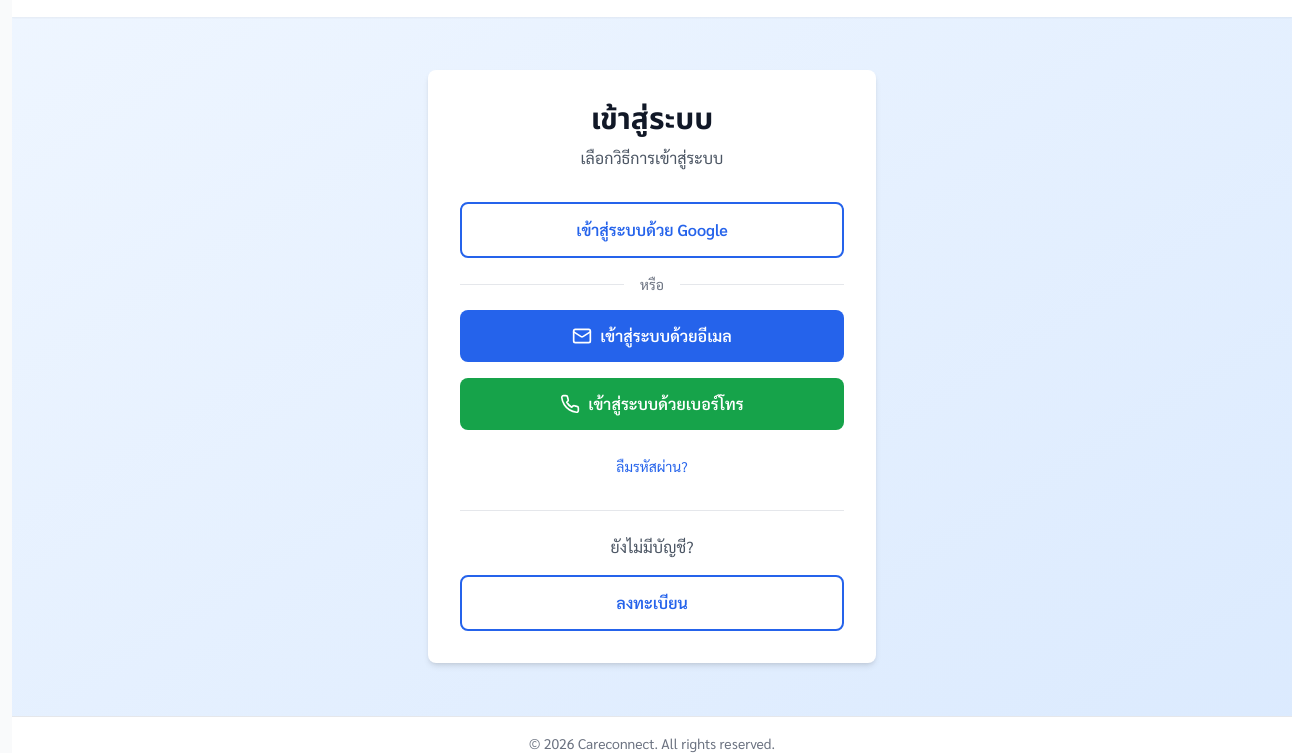
Scenario: Auth entry navigation › navigates to forgot password
The image size is (1292, 753).
Click the link "ลืมรหัสผ่าน?" at (652, 466), box [616,457,688,475]
(page scrolled)
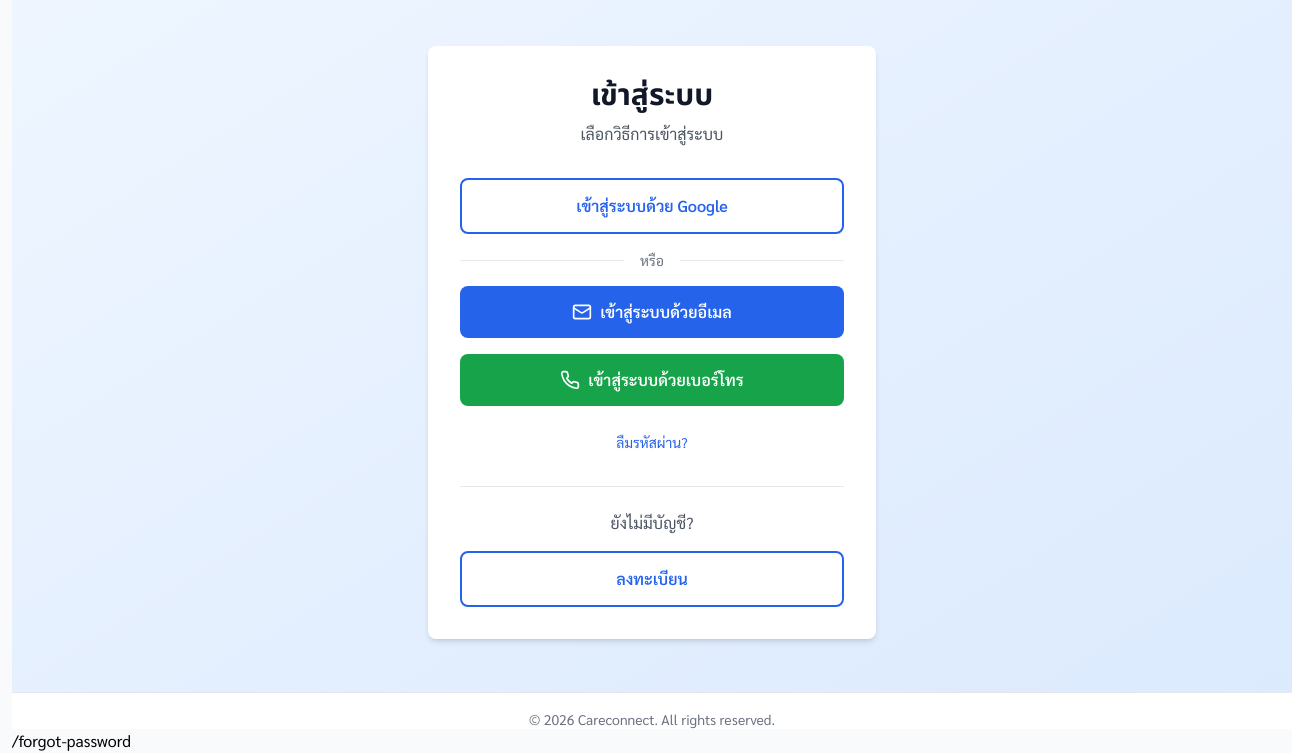
Expected: the text with test id "location" reads "/forgot-password", [12,730,131,751]
